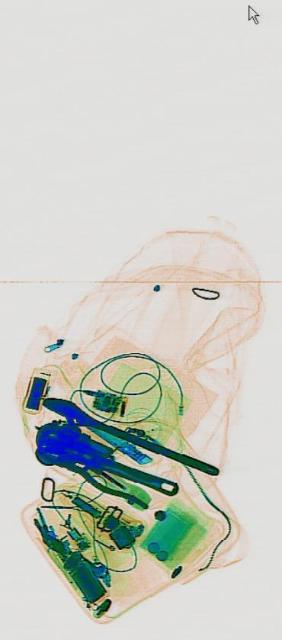Pliers: (55, 431, 159, 514)
Wrench: (39, 389, 217, 485)
